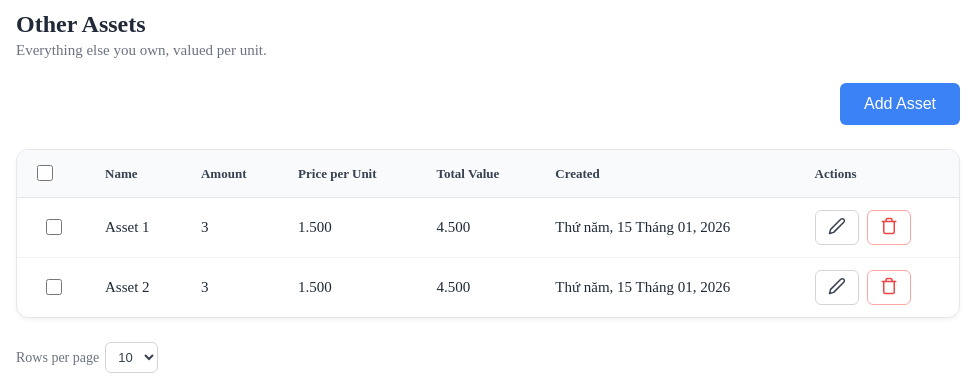
Test case: OtherAssets › toggles the whole page via select-all
This screenshot has width=977, height=390.
expect the text "Asset 1" is shown: met, box 89,198 -> 185,258
Click the checkbox named "Select all rows on this page" at (45, 173), box 37,165 -> 53,181
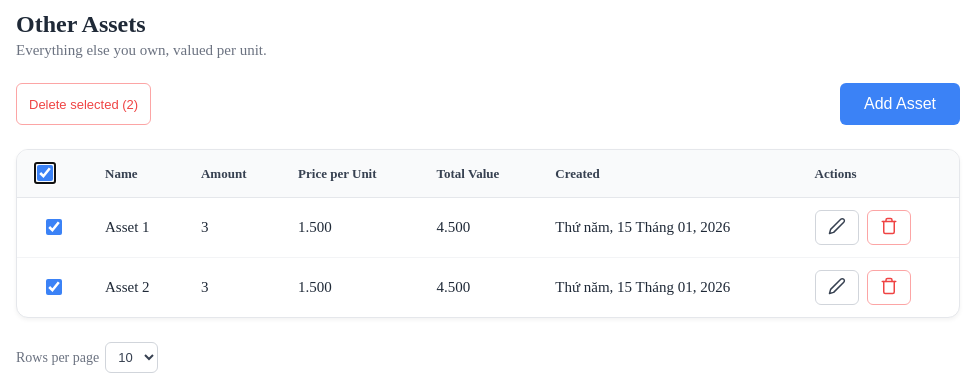
expect the checkbox named "Select all rows on this page" is checked: met
expect the checkbox named "Select row 1" is checked: met, box 46,219 -> 62,235
expect the checkbox named "Select row 2" is checked: met, box 46,279 -> 62,295
Click the checkbox named "Select all rows on this page" at (45, 173), box 37,165 -> 53,181
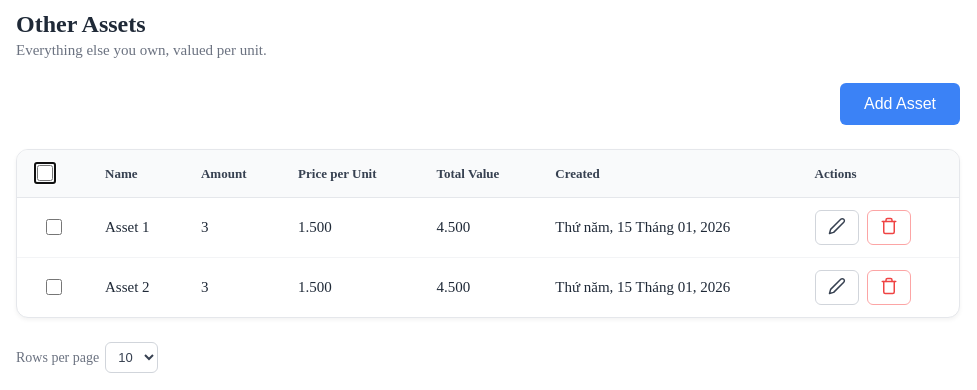
expect the checkbox named "Select all rows on this page" is not checked: met, box 37,165 -> 53,181
expect the checkbox named "Select row 1" is not checked: met, box 46,219 -> 62,235
expect the checkbox named "Select row 2" is not checked: met, box 46,279 -> 62,295
